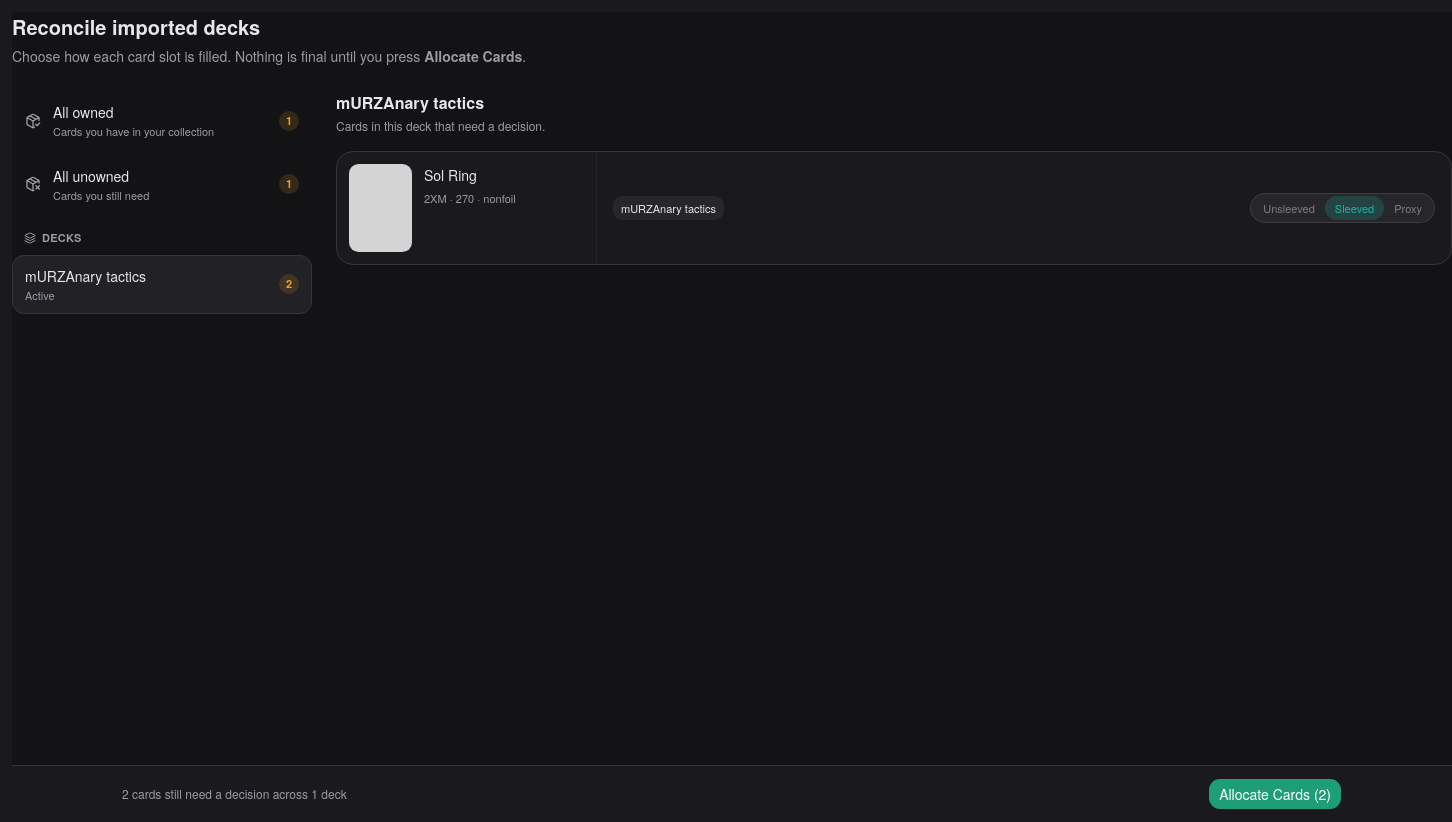
ReconciliationSummary › opens a list of cards when a list on the left is clicked
The image size is (1452, 822).
Click the text "All unowned". click: click(91, 176)
box: x1=53 y1=166 x2=129 y2=186
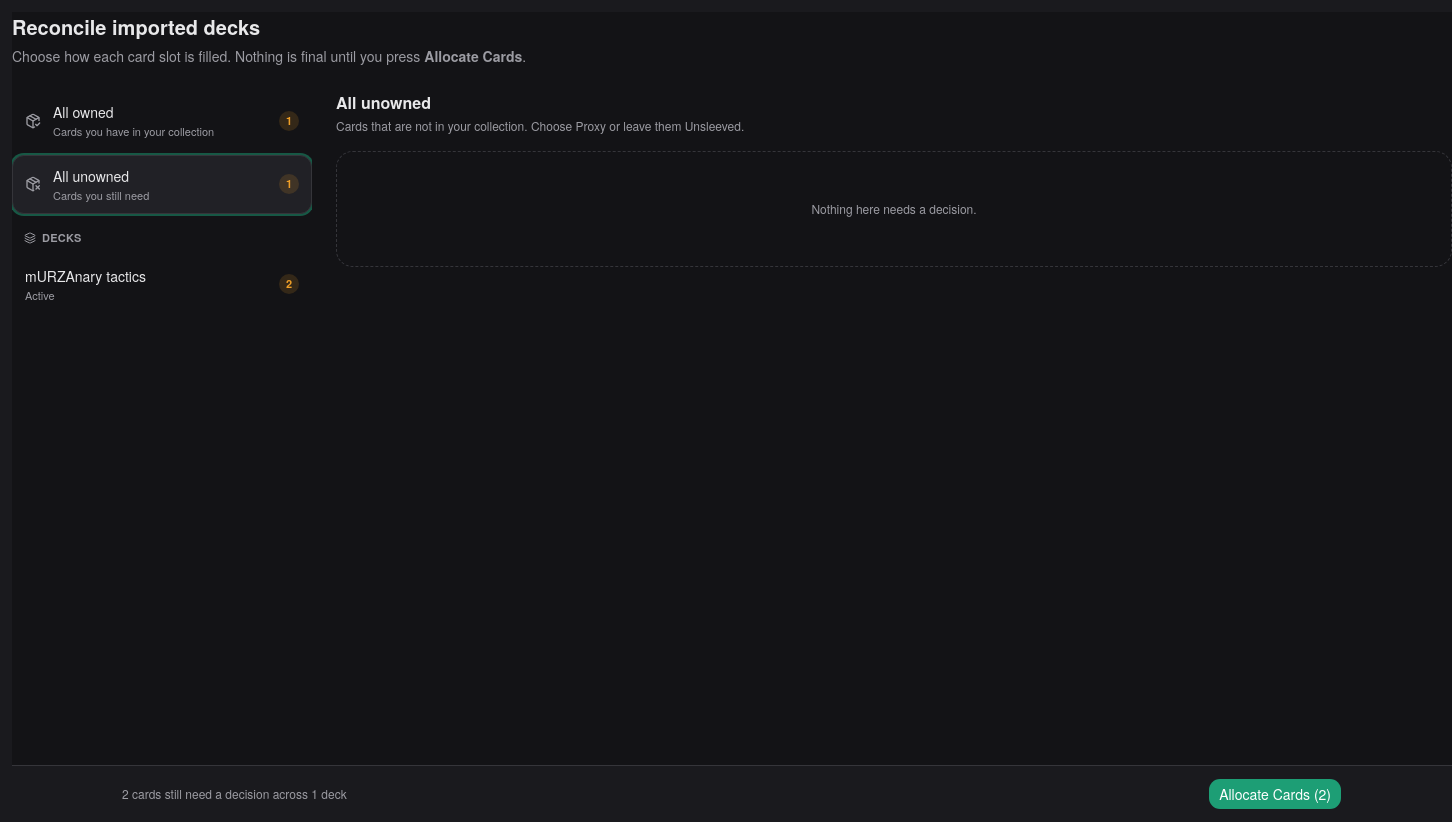
Check: the heading "All unowned" is shown, box x1=336 y1=91 x2=431 y2=114
Check: the text "Sol Ring" is gone
Click the text "All owned". click: click(83, 112)
box: x1=53 y1=102 x2=114 y2=122
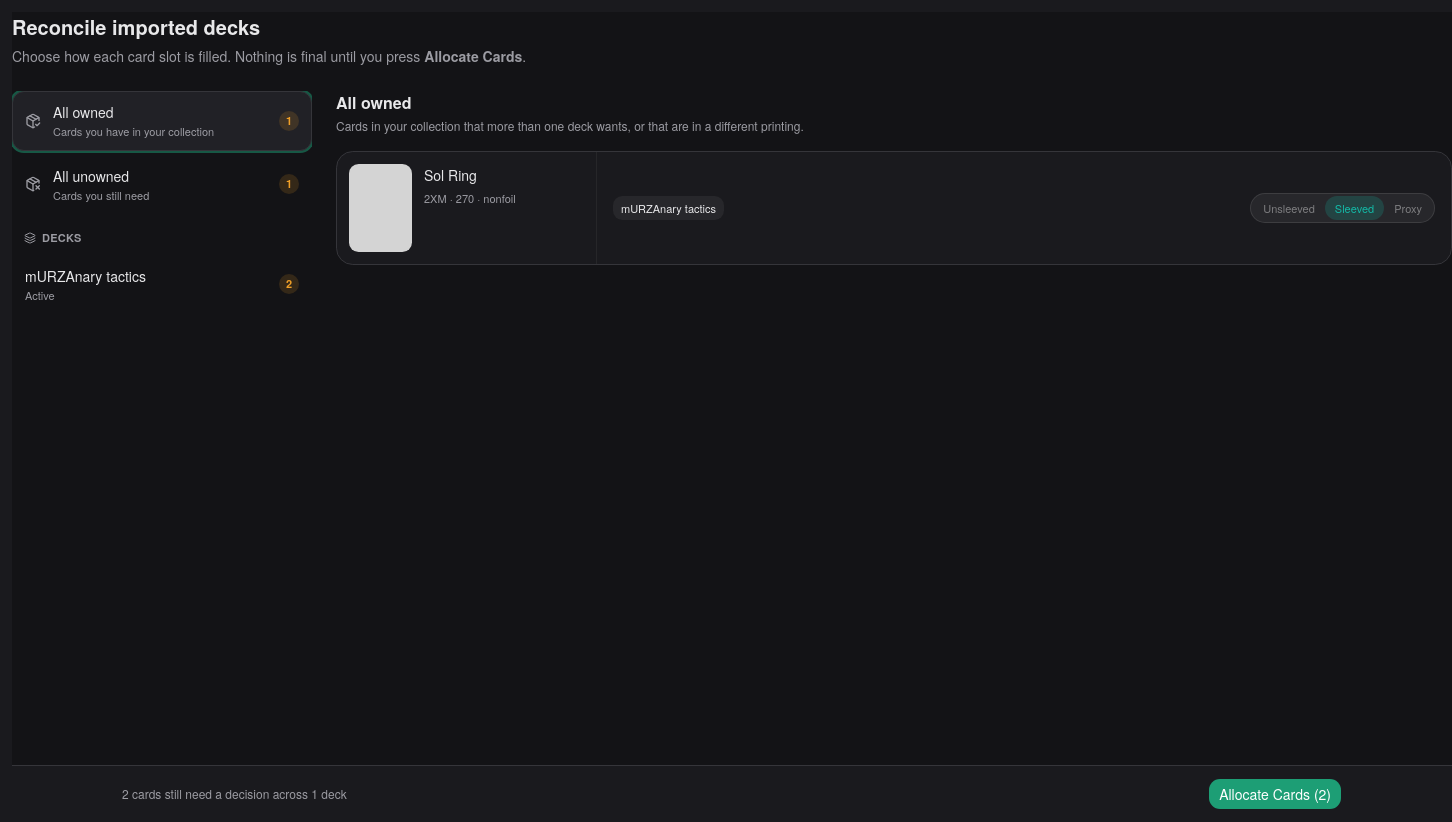
Check: the text "Sol Ring" is shown, box x1=424 y1=165 x2=477 y2=185
